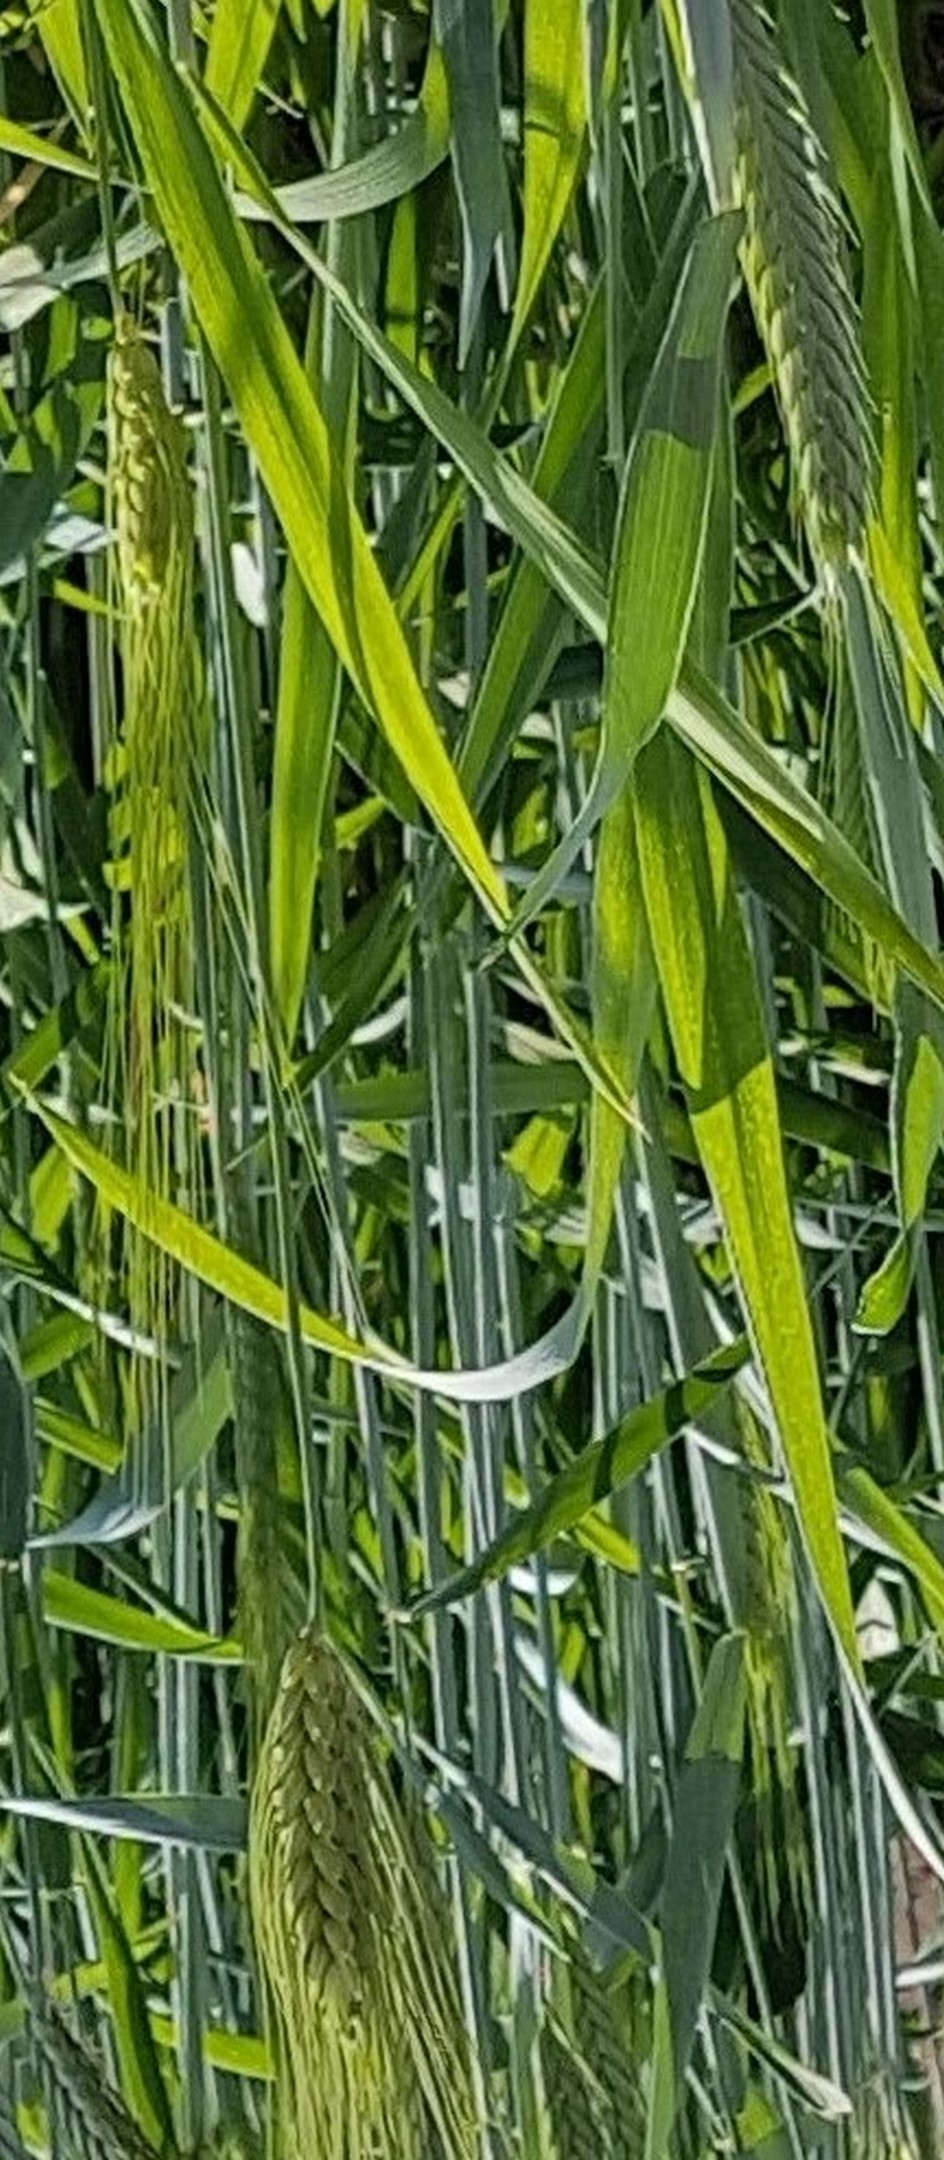Healthy Wheat: (699, 56, 944, 540), (232, 1630, 418, 2042), (83, 311, 201, 591)
